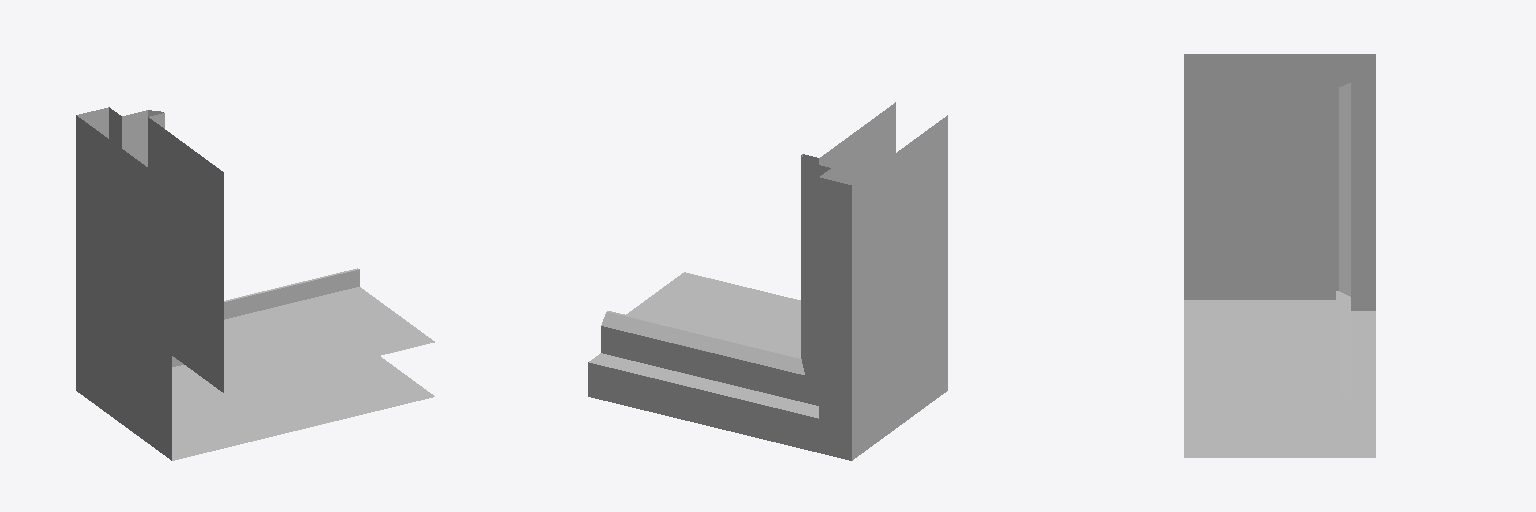
The model's file is original-77.obj.
3 renders of one model, left to right at view 1: azimuth 30°, elevation 25°; view 2: azimuth 150°, elevation 25°; view 3: azimuth 270°, elevation 25°, orthographic.
Visible parts, largest first — view 1: CTL/CTL_2/ID462#ID462; view 2: CTL/CTL_2/ID462#ID462; view 3: CTL/CTL_2/ID462#ID462.
Part boxes in pixels (x1,y1,x2,y2): CTL/CTL_2/ID462#ID462: (76, 107, 434, 460); CTL/CTL_2/ID462#ID462: (588, 102, 947, 460); CTL/CTL_2/ID462#ID462: (1184, 54, 1375, 457).
Size of the model in its own units: 0.1274 by 0.1274 by 0.0803.